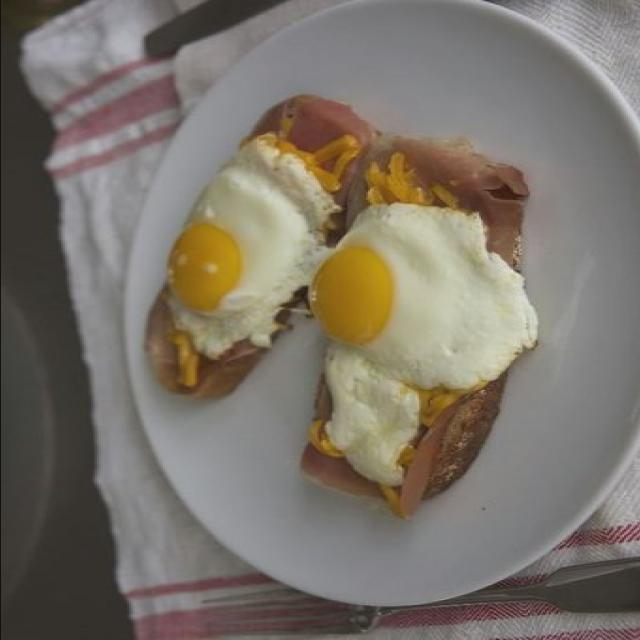telur ceplok: (166, 138, 361, 360), (309, 202, 538, 390)
